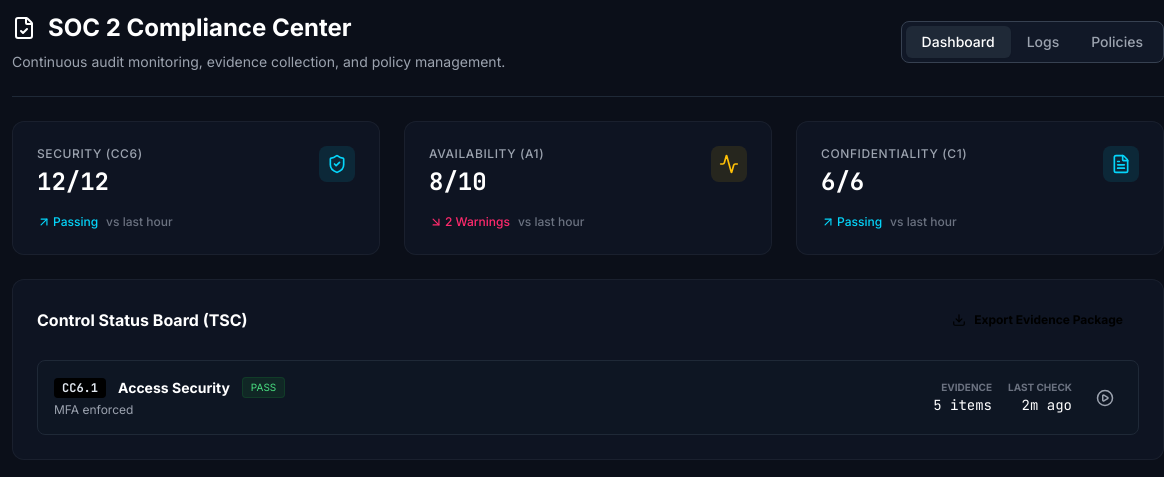
Compliance View › Switches to Logs Tab
Click the button "logs": (1043, 42) [1011,26,1075,58]
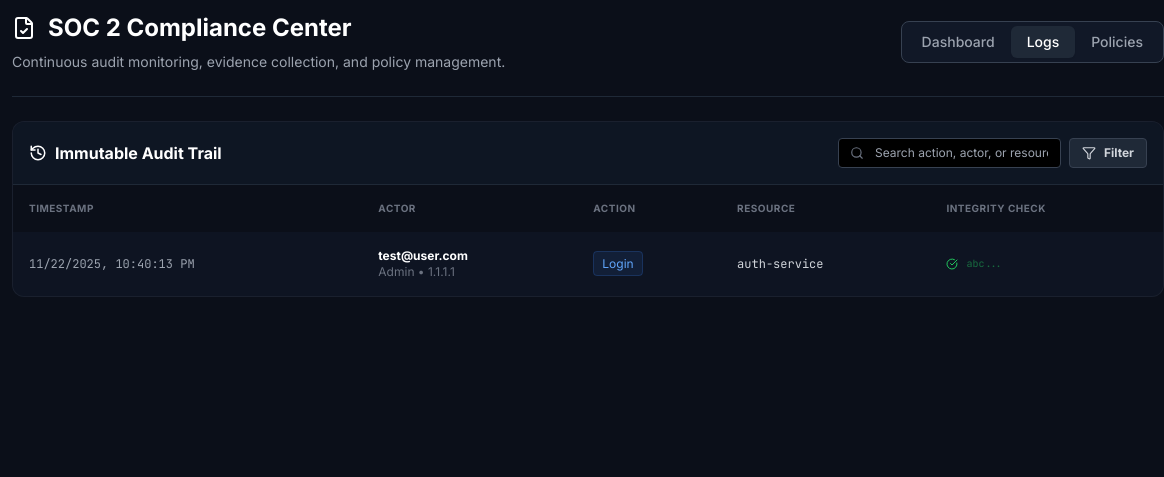
Check: the heading "Immutable Audit Trail" is shown, box [29,141,222,165]
Check: the text "test@user.com" is shown, box [378,248,468,263]
Check: the text "Login" is shown, box [593,251,643,276]
